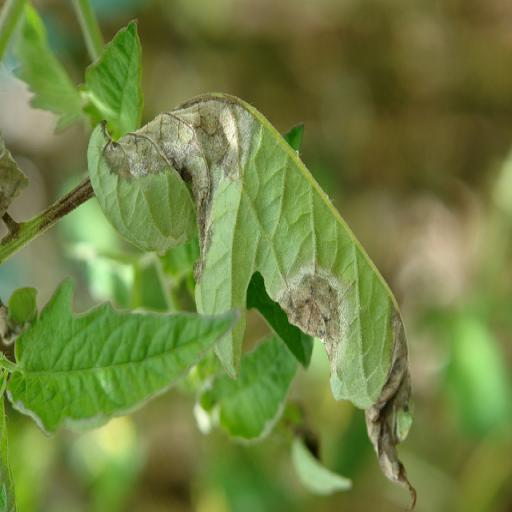Healthy: (0, 277, 242, 432)
Late Blight: (85, 84, 418, 502), (0, 285, 40, 348)
